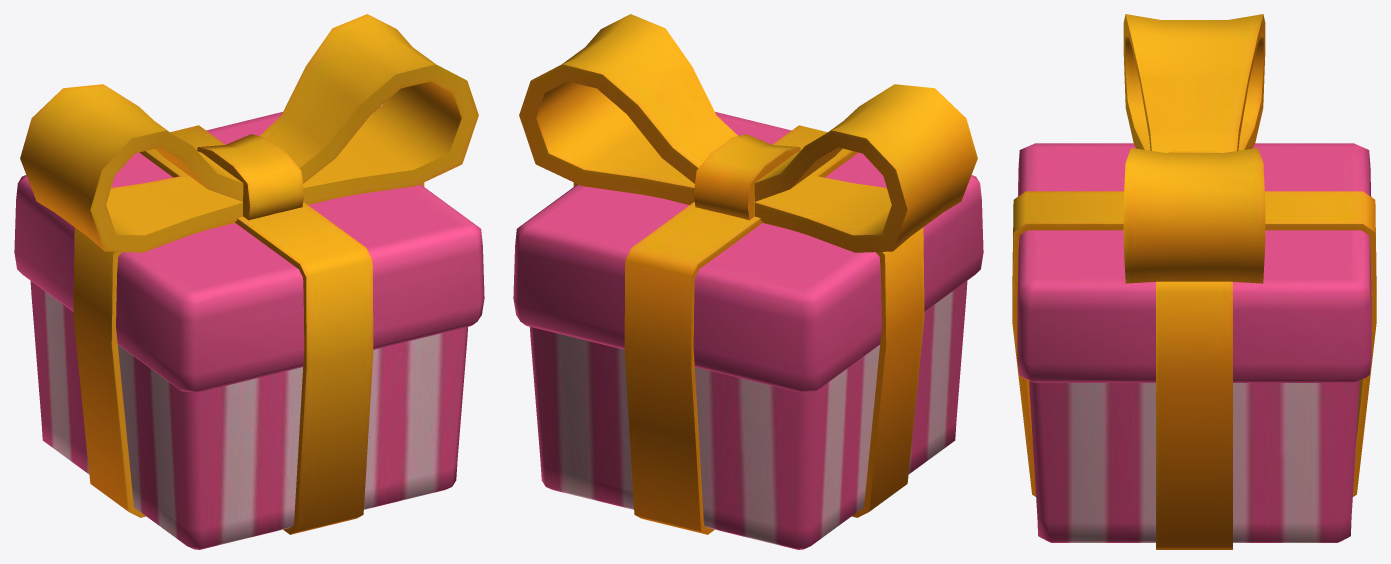
File: gift-box.glb
The picture shows the model from 3 angles, left to right: view 1: azimuth 30°, elevation 25°; view 2: azimuth 150°, elevation 25°; view 3: azimuth 270°, elevation 25°; orthographic projection.
Bounding box in the file's own units: 1 × 0.975 × 0.8079.
1 material, 1 textured.
